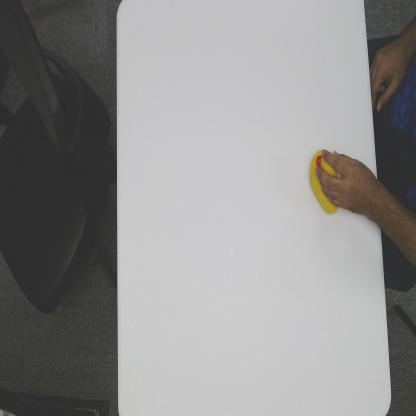Duck: (308, 146, 342, 218)
Hand: (316, 148, 378, 218)
